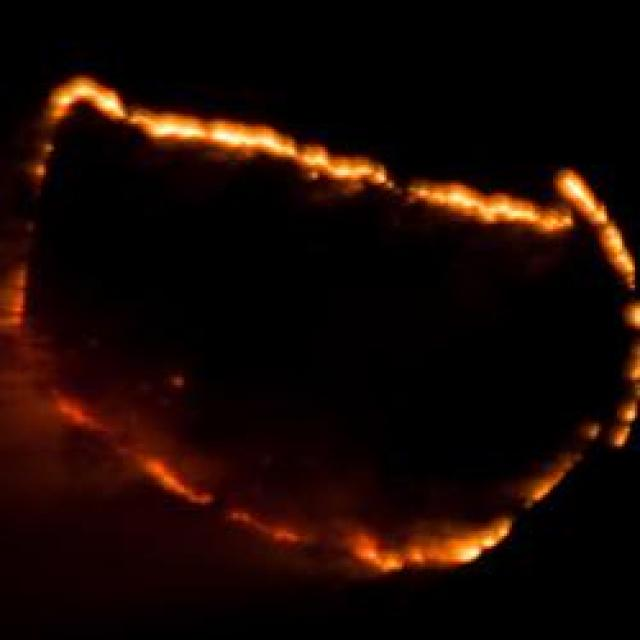fire: (405, 179, 588, 231), (354, 522, 496, 576), (272, 136, 389, 194), (137, 454, 220, 508), (48, 74, 126, 120)
